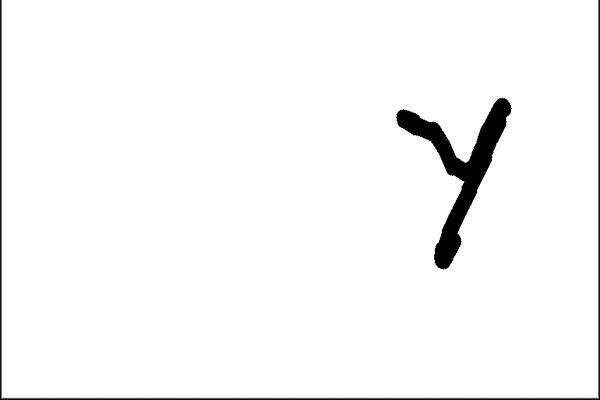Y: (384, 88, 531, 278)
